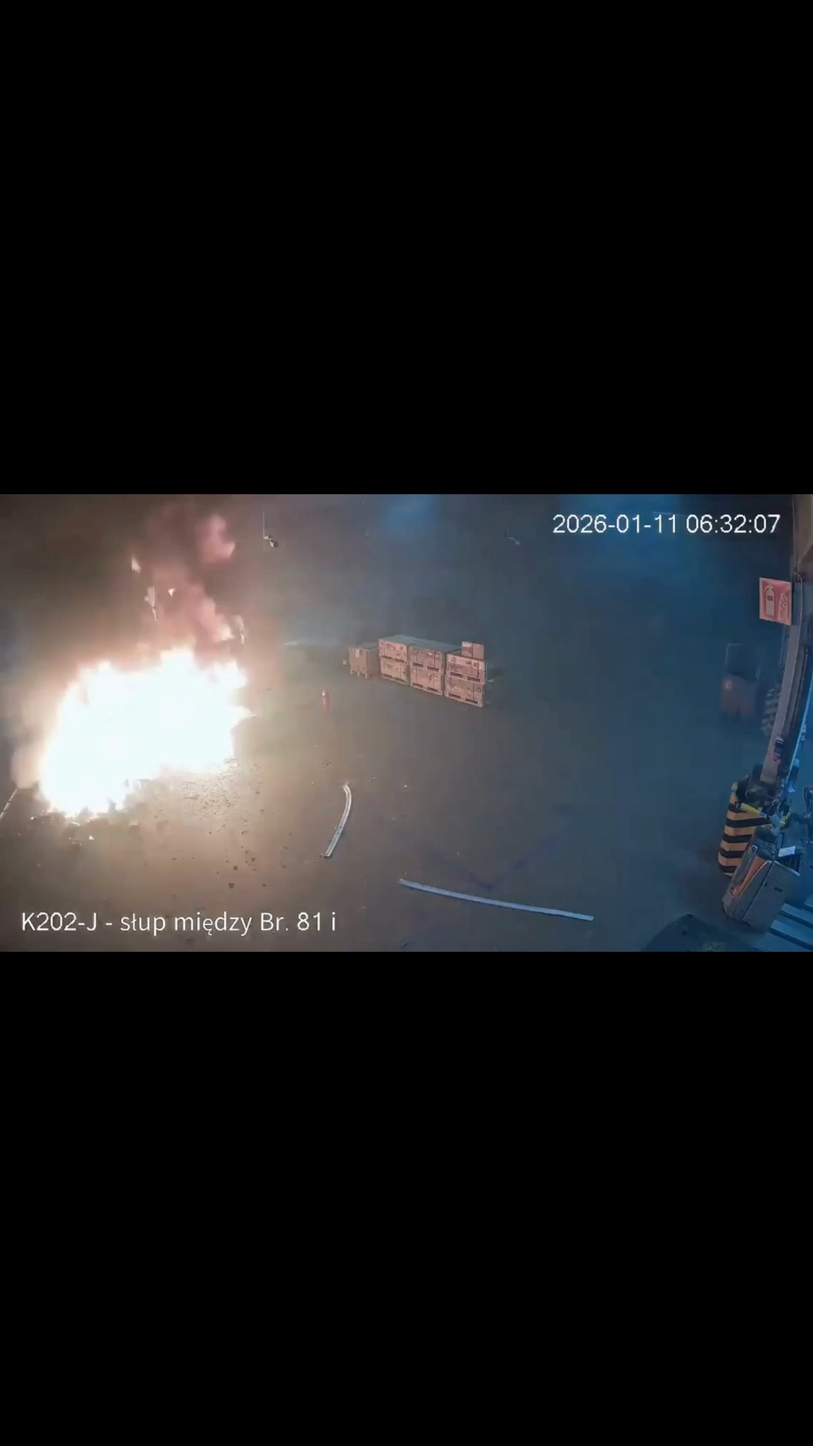fire: (18, 639, 255, 823)
smoke: (0, 498, 263, 670)
